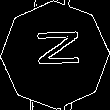N_W: (29, 34, 81, 76)
